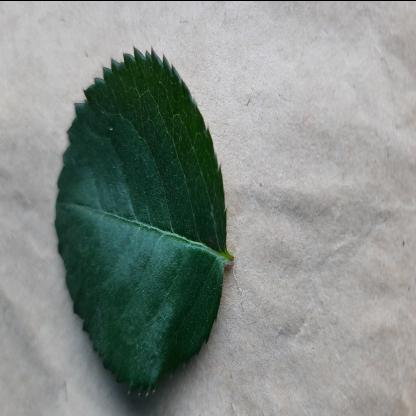normal: (52, 51, 228, 399)
